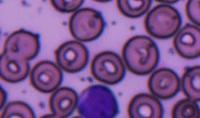L: (76, 84, 118, 117)
